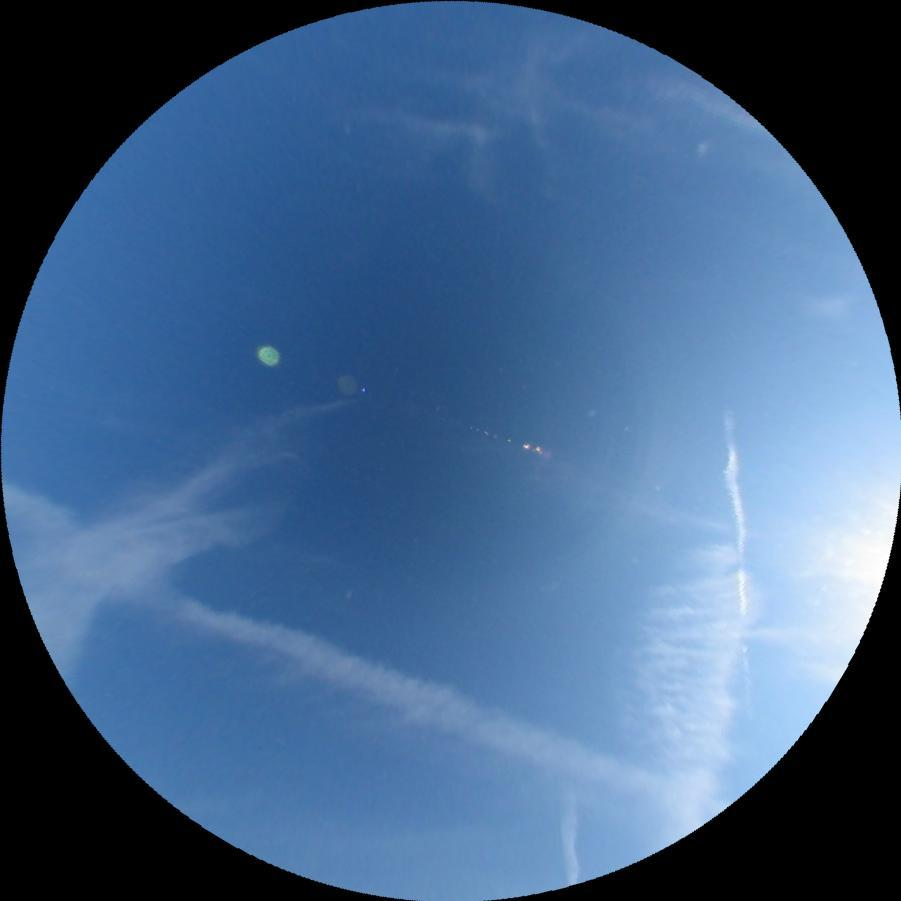contrail old: (716, 407, 764, 715), (558, 808, 579, 886)
contrail veryold: (106, 564, 665, 817), (593, 526, 774, 856)
